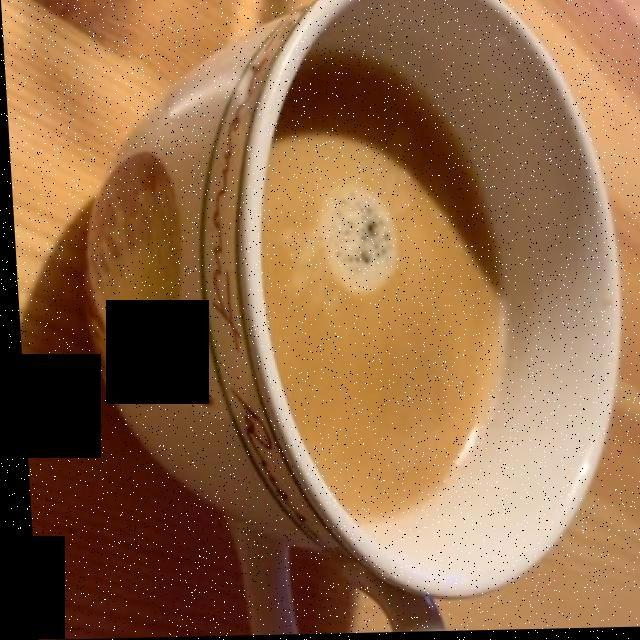coffee: (263, 75, 500, 488)
